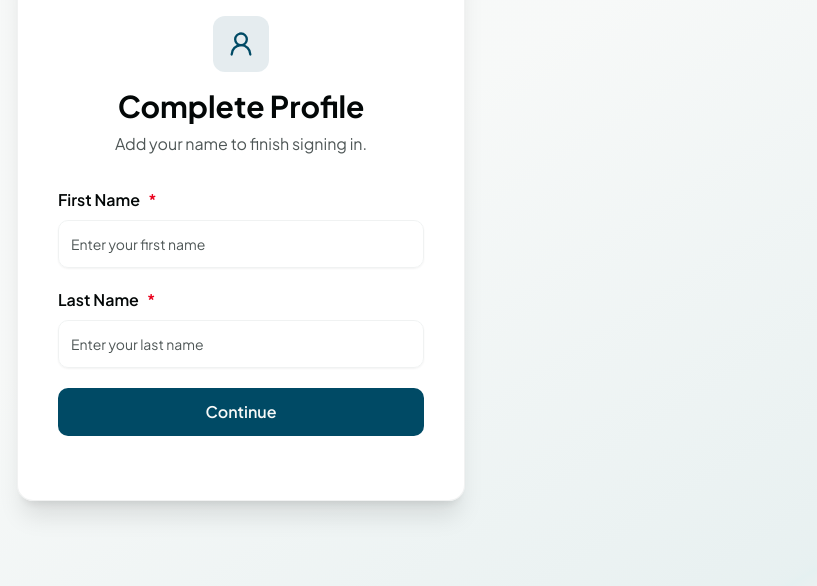
Test: CompleteProfilePage › disables submit button while submitting
The width and height of the screenshot is (817, 586).
Type "John" into the field labelled "First Name *". click: [241, 244]
box: [58,220,424,268]
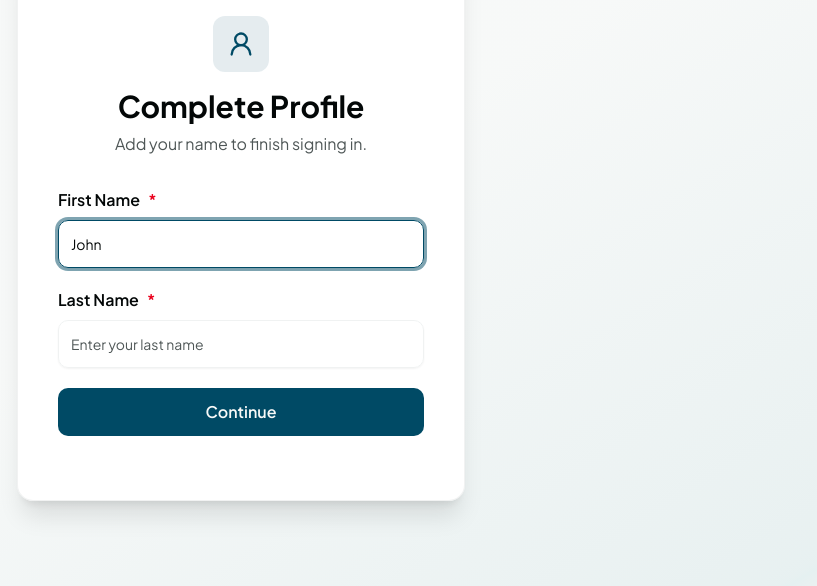
Type "Doe" into the field labelled "Last Name *". click: [241, 344]
box: [58,320,424,368]
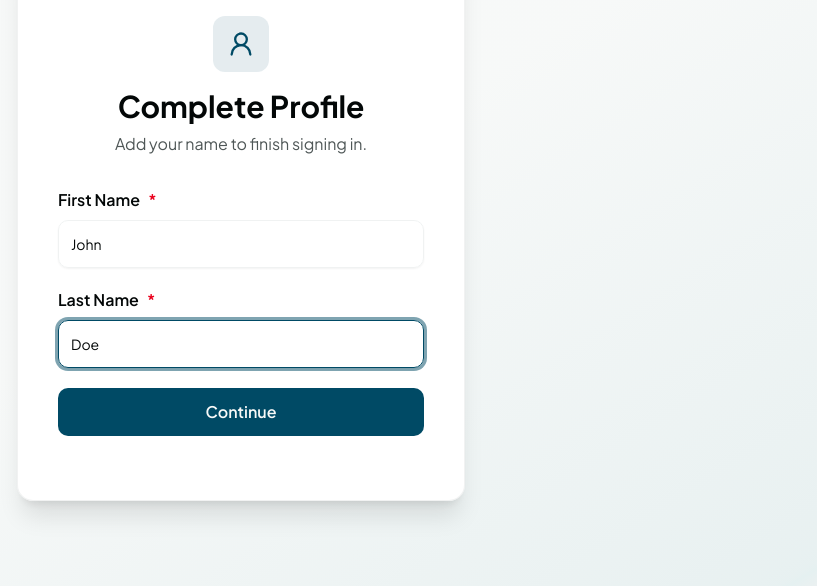
Click the button "Continue". click: [241, 412]
box: [58,388,424,436]
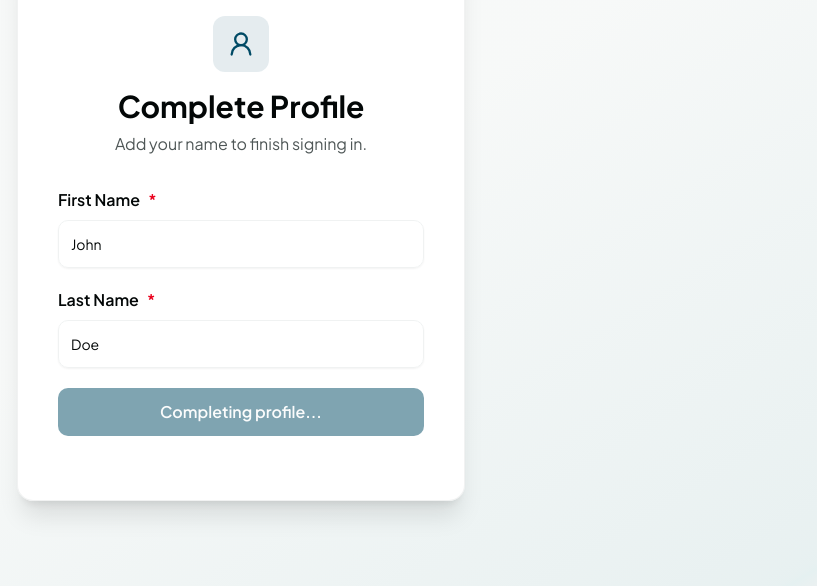
Check: the button "Completing profile..." is disabled, box [58,388,424,436]
